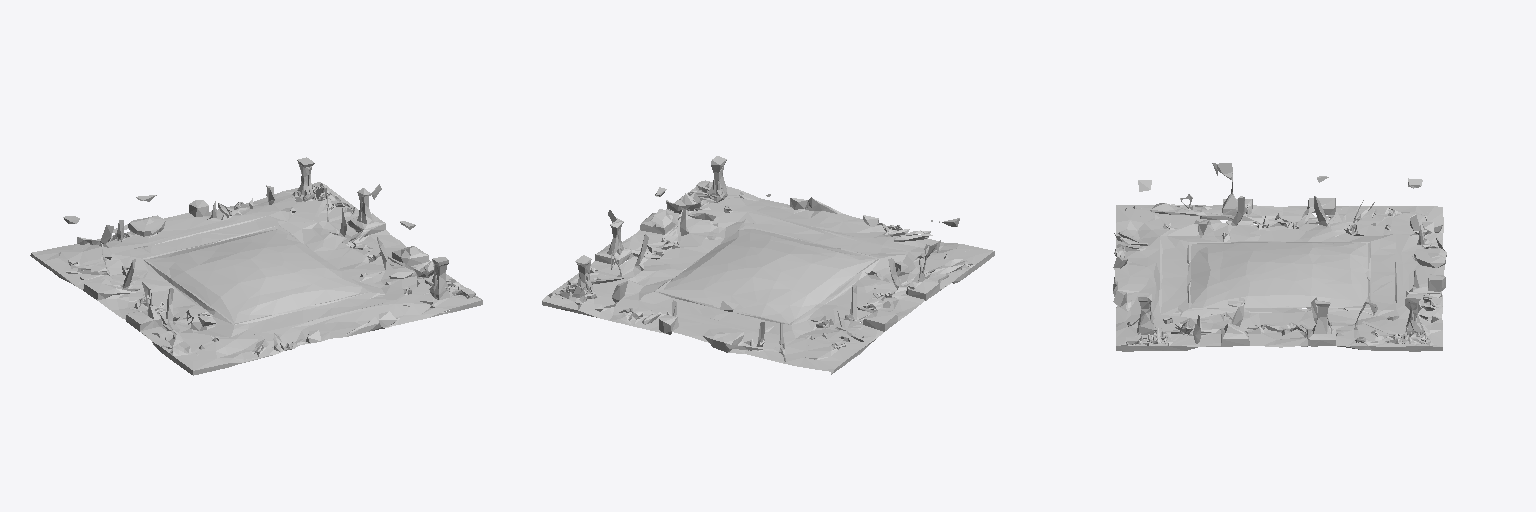
File: Create_a_long_wide__0530140815_texture.obj
3 renders of one model, left to right at view 1: azimuth 30°, elevation 25°; view 2: azimuth 150°, elevation 25°; view 3: azimuth 270°, elevation 25°, orthographic.
Visible parts, largest first — view 1: Create_a_long_wide__[number redacted]_texture; view 2: Create_a_long_wide__[number redacted]_texture; view 3: Create_a_long_wide__[number redacted]_texture.
Part boxes in pixels (bbox=[...]): Create_a_long_wide__[number redacted]_texture: bbox=[30, 157, 482, 375]; Create_a_long_wide__[number redacted]_texture: bbox=[542, 156, 994, 374]; Create_a_long_wide__[number redacted]_texture: bbox=[1113, 163, 1446, 351].
Size of the model in its own units: 2 by 0.3411 by 2.